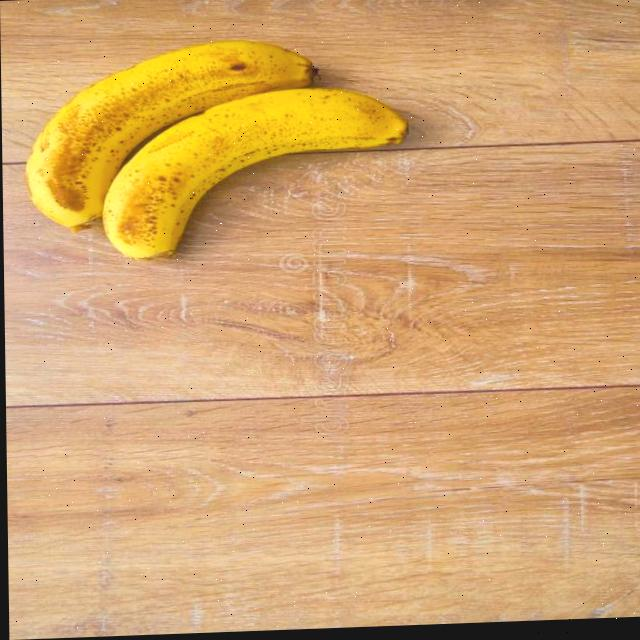banana: (19, 33, 323, 239), (91, 78, 418, 266)
